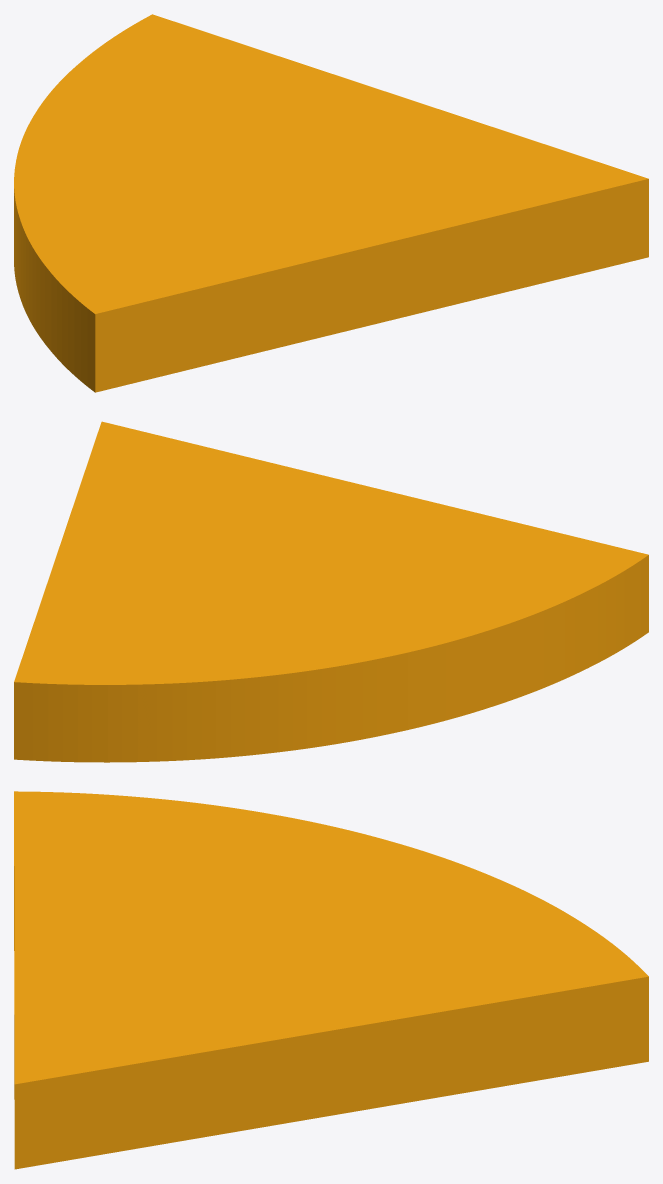
File: invest20.gltf
3 renders of one model, top to bottom at view 1: azimuth 30°, elevation 25°; view 2: azimuth 150°, elevation 25°; view 3: azimuth 270°, elevation 25°, orthographic. The views are drawn at different scales.
Parts seen in each view (by area): view 1: 20Invest; view 2: 20Invest; view 3: 20Invest.
Boxes of the visible parts, <box> form: 20Invest: <box>14,14,648,392</box>; 20Invest: <box>14,421,648,762</box>; 20Invest: <box>14,791,648,1169</box>.
Size of the model in its own units: 1.96 by 0.2649 by 1.79.
